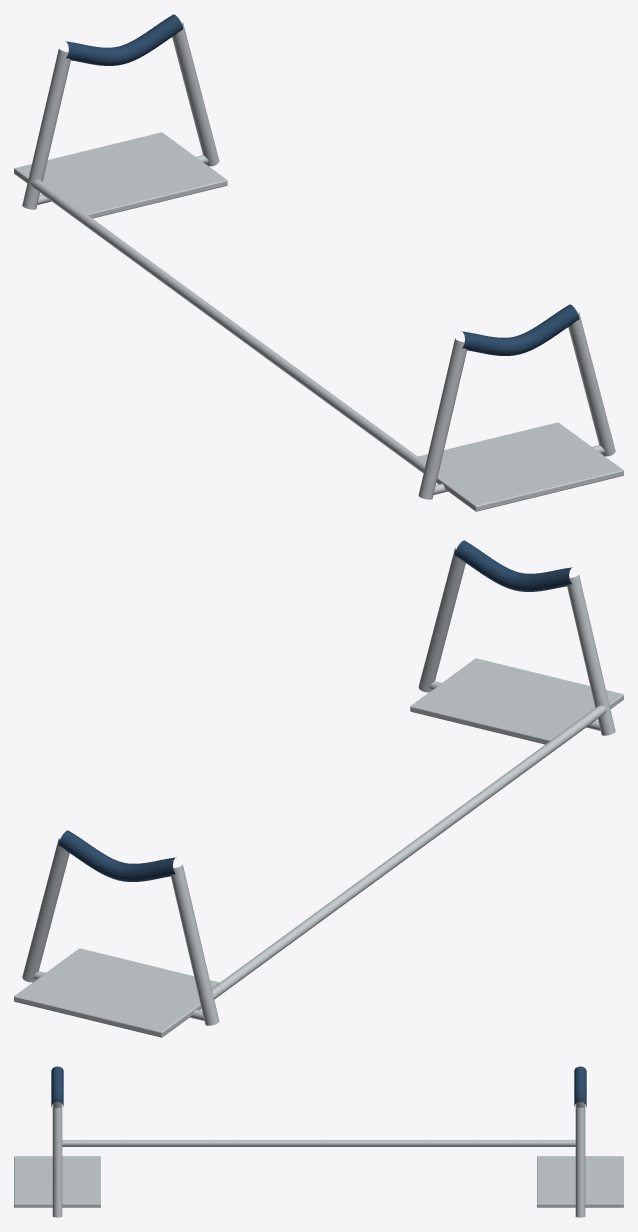
Rendered from rowing-boathouse-and-regatta-course-boat-wash-stand-5bb7c299__32152.glb.
The picture shows the model from 3 angles, top to bottom: view 1: azimuth 30°, elevation 25°; view 2: azimuth 150°, elevation 25°; view 3: azimuth 270°, elevation 25°; orthographic projection. The views are drawn at different scales.
Visible parts, largest first — view 1: boat-wash-stand; view 2: boat-wash-stand; view 3: boat-wash-stand.
Part boxes in pixels (left/top/right/bottom): boat-wash-stand: left=14, top=14, right=623, bottom=511; boat-wash-stand: left=14, top=540, right=623, bottom=1037; boat-wash-stand: left=14, top=1066, right=623, bottom=1217.
Bounding box in the file's own units: 0.8532 × 0.6602 × 3.5.
